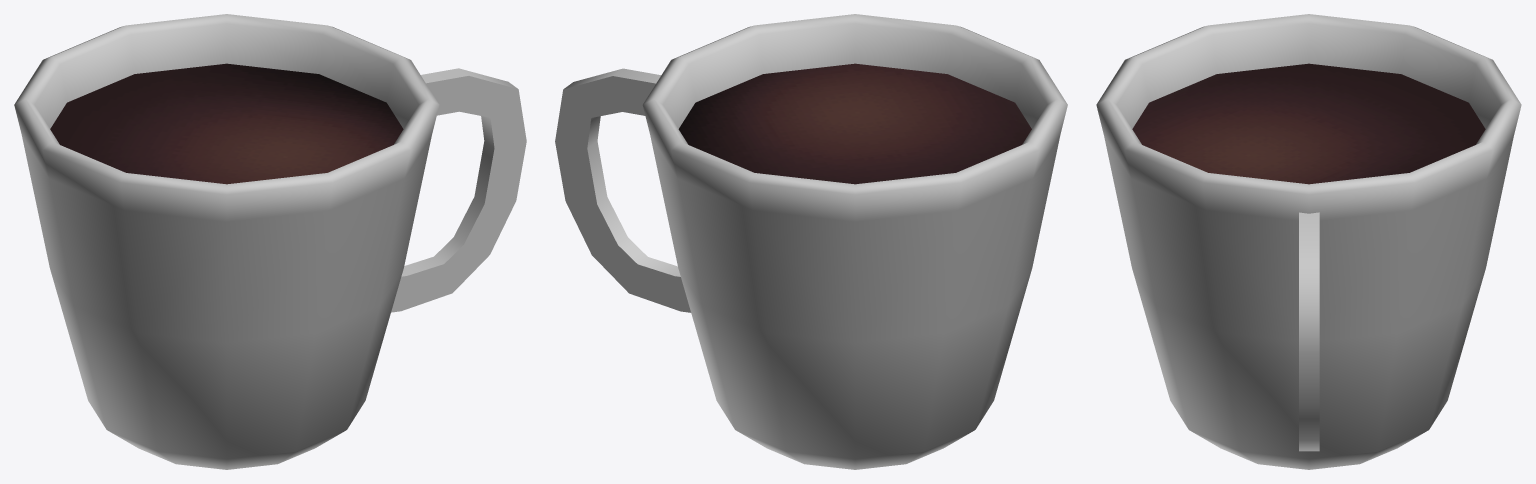
The model's file is prop_foodmenu20a.fbx.
3 renders of one model, left to right at view 1: azimuth 30°, elevation 25°; view 2: azimuth 150°, elevation 25°; view 3: azimuth 270°, elevation 25°, orthographic.
Parts seen in each view (by area): view 1: prop_foodmenu20a; view 2: prop_foodmenu20a; view 3: prop_foodmenu20a.
Boxes of the visible parts, x1,y1,x2,y2 form: prop_foodmenu20a: (14, 14, 526, 469); prop_foodmenu20a: (555, 14, 1067, 469); prop_foodmenu20a: (1096, 14, 1521, 469).
Bounding box in the file's own units: 0.1311 × 0.0857 × 0.1008.
